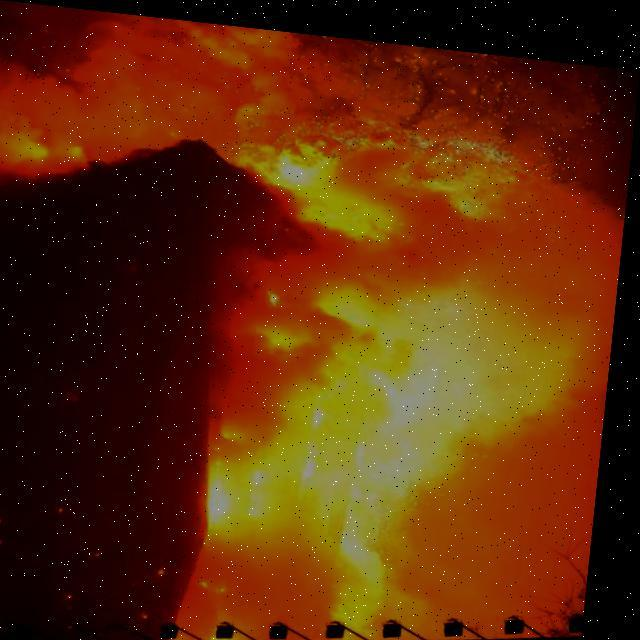Fire: (156, 75, 532, 640)
